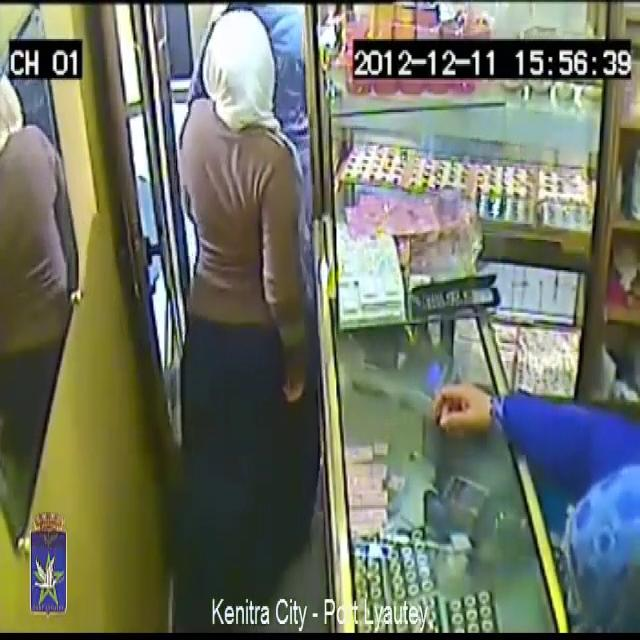normal: (435, 264, 640, 640), (148, 0, 323, 204)
